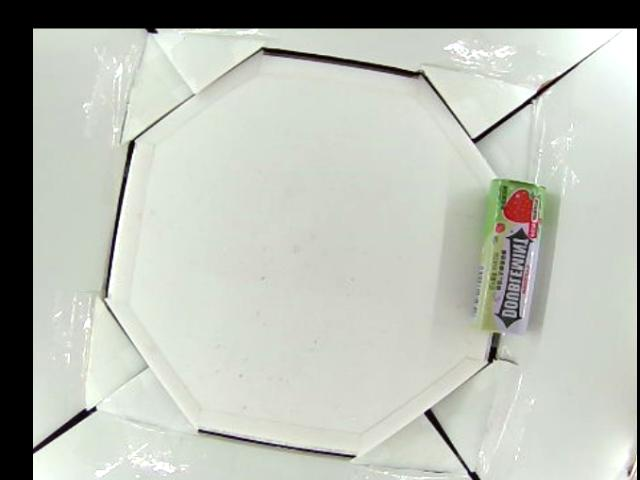Bottle: (471, 176, 544, 337)
